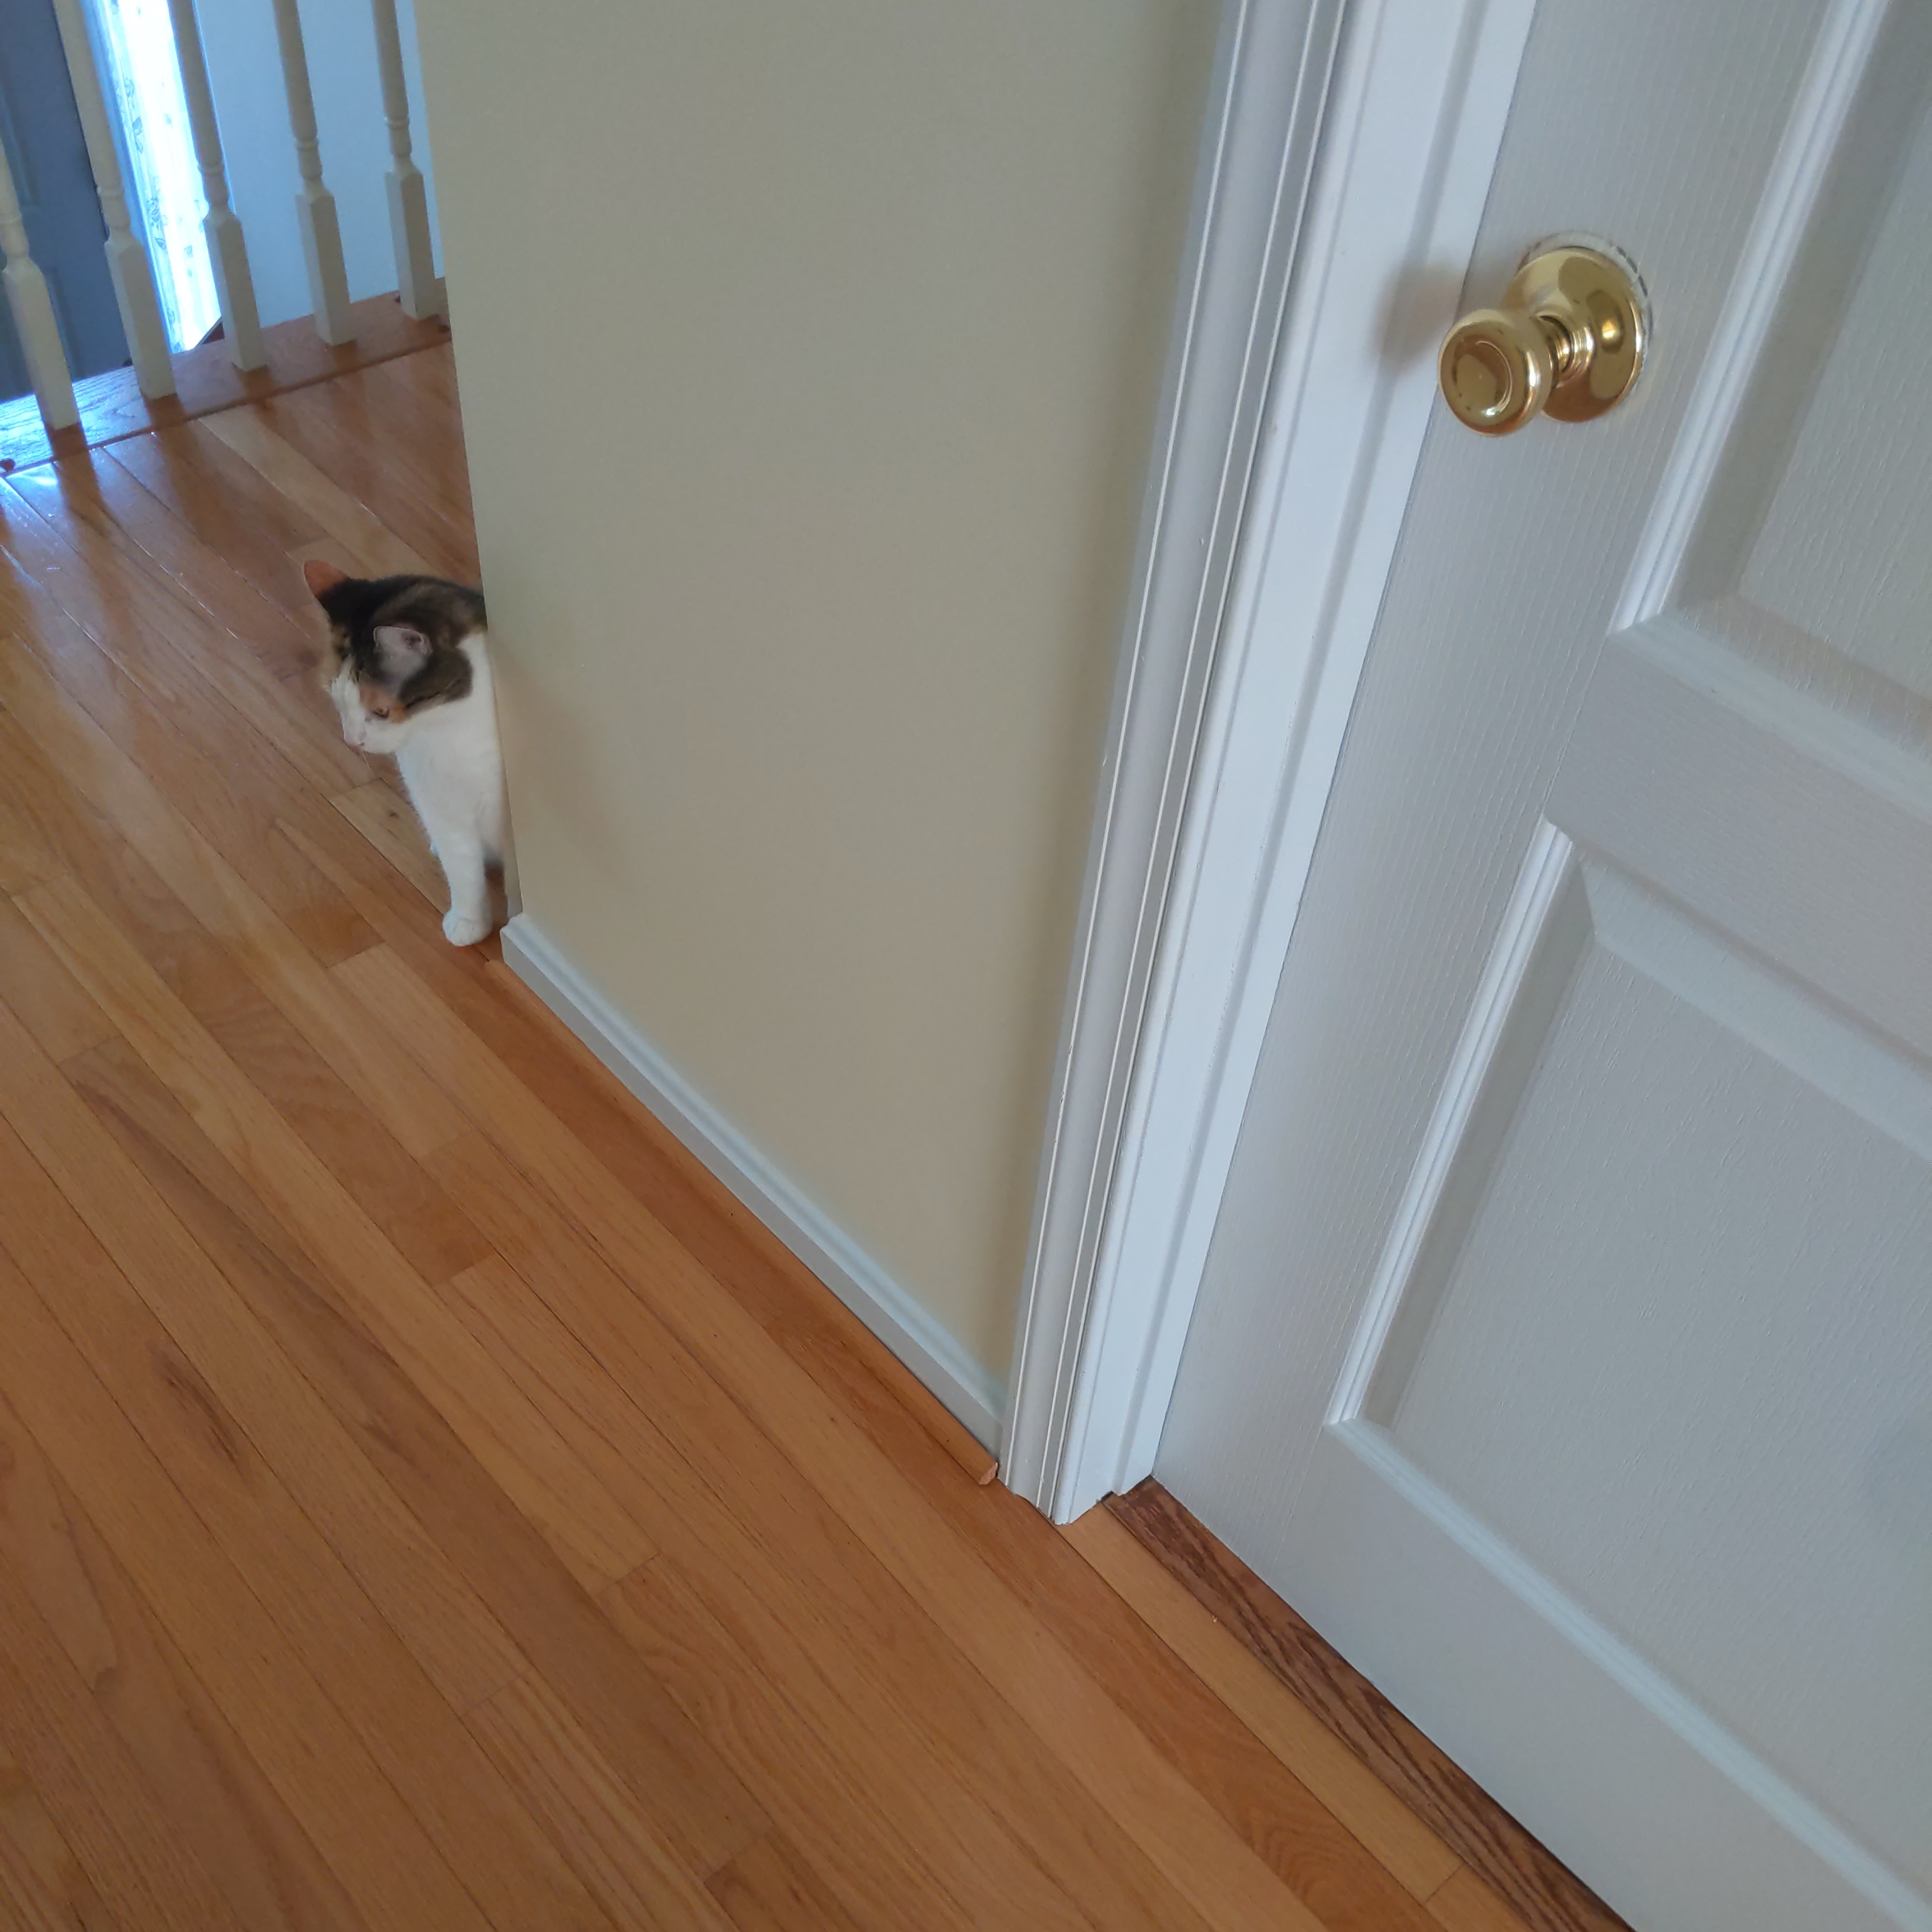Calico: (303, 557, 520, 947)
